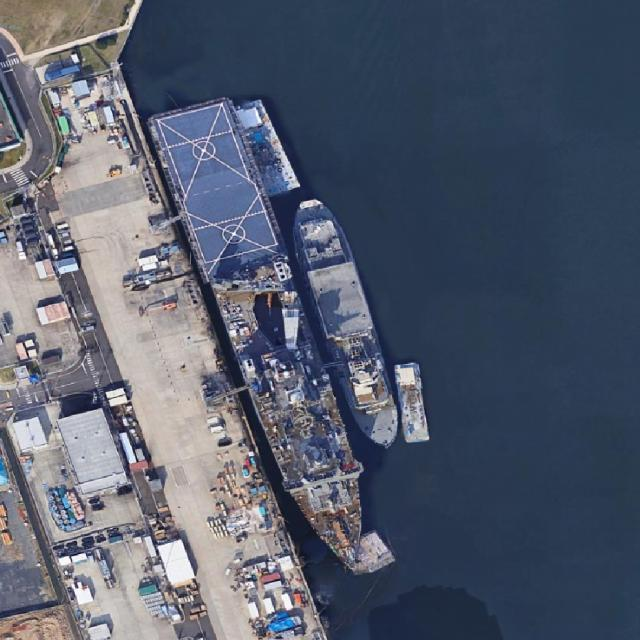Landing: (144, 85, 393, 584)
Other Ship: (393, 359, 430, 445)
Other Warship: (281, 191, 412, 458)
